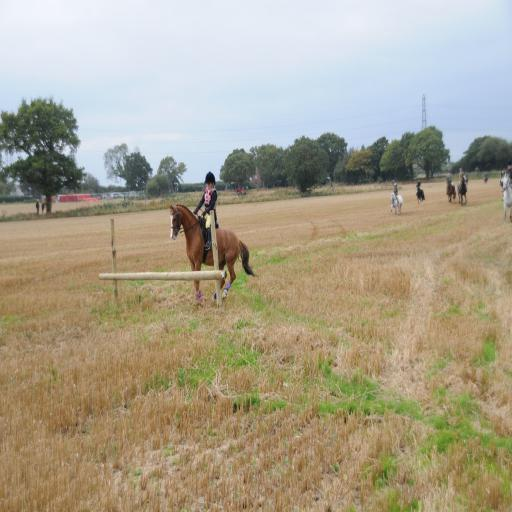Horse: (169, 203, 259, 305), (502, 173, 512, 222), (388, 190, 404, 216), (456, 178, 468, 204), (414, 183, 426, 205), (444, 181, 457, 201)
